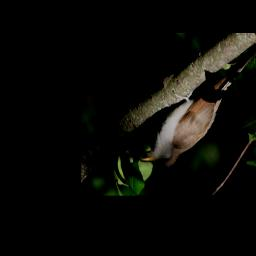Cuckoo: (139, 40, 256, 169)
